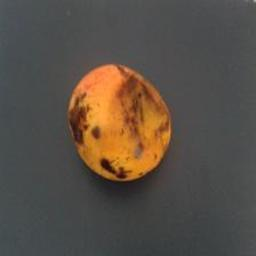Mango Rotten: (55, 62, 177, 196)
